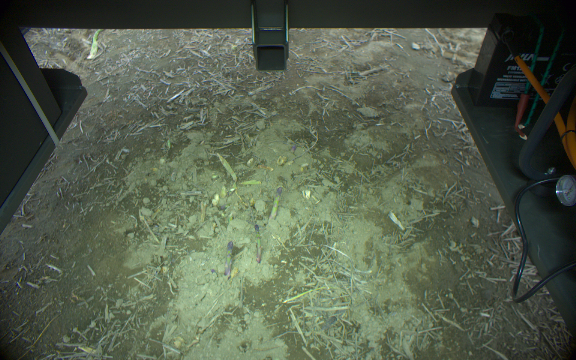aspa: (83, 29, 110, 62), (265, 186, 288, 223), (248, 222, 264, 263), (221, 239, 236, 278)
